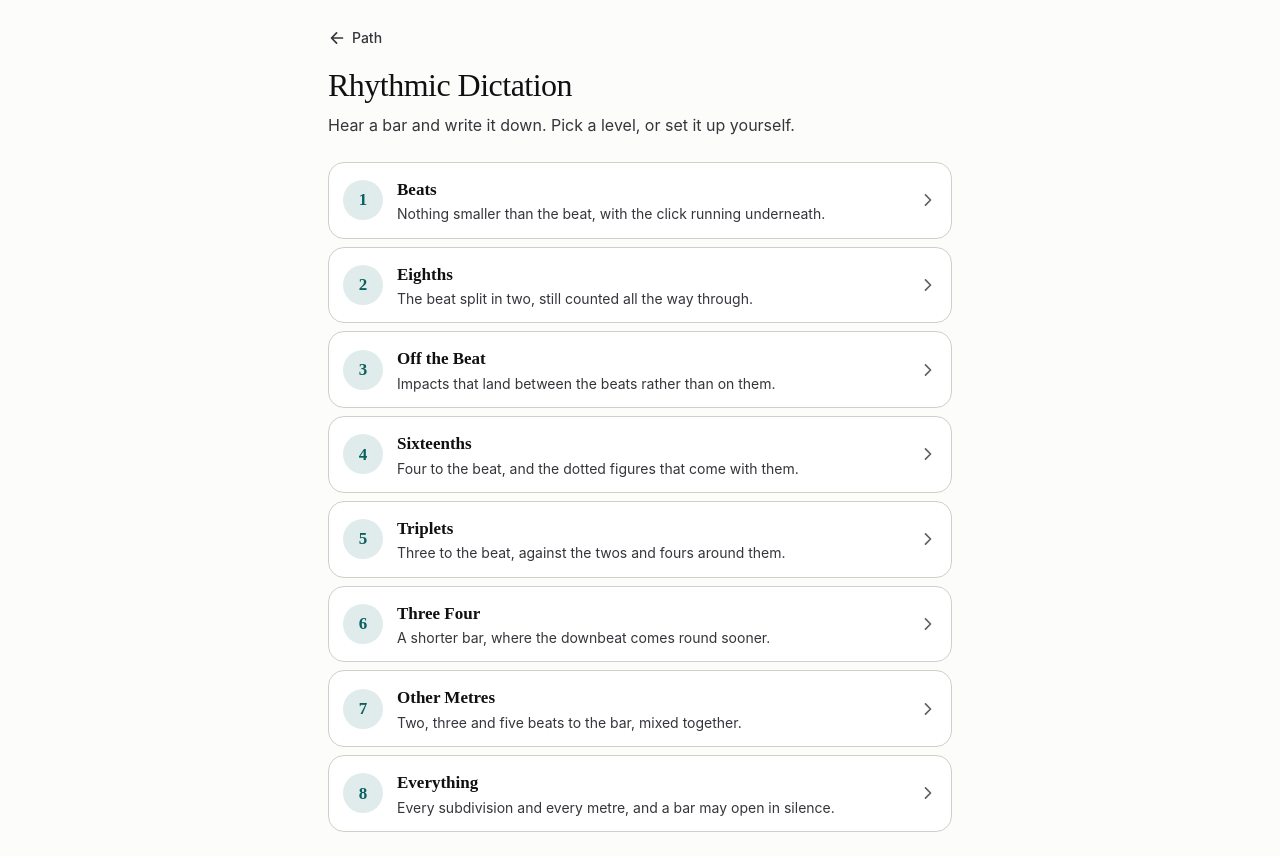
Test: Rhythmic Dictation › starts a round from a level, in the same tap
What coordinates should you click on to do the following:
click the text "Beats"
I would click on:
 (417, 189)
Its box is [397,180,437,199].
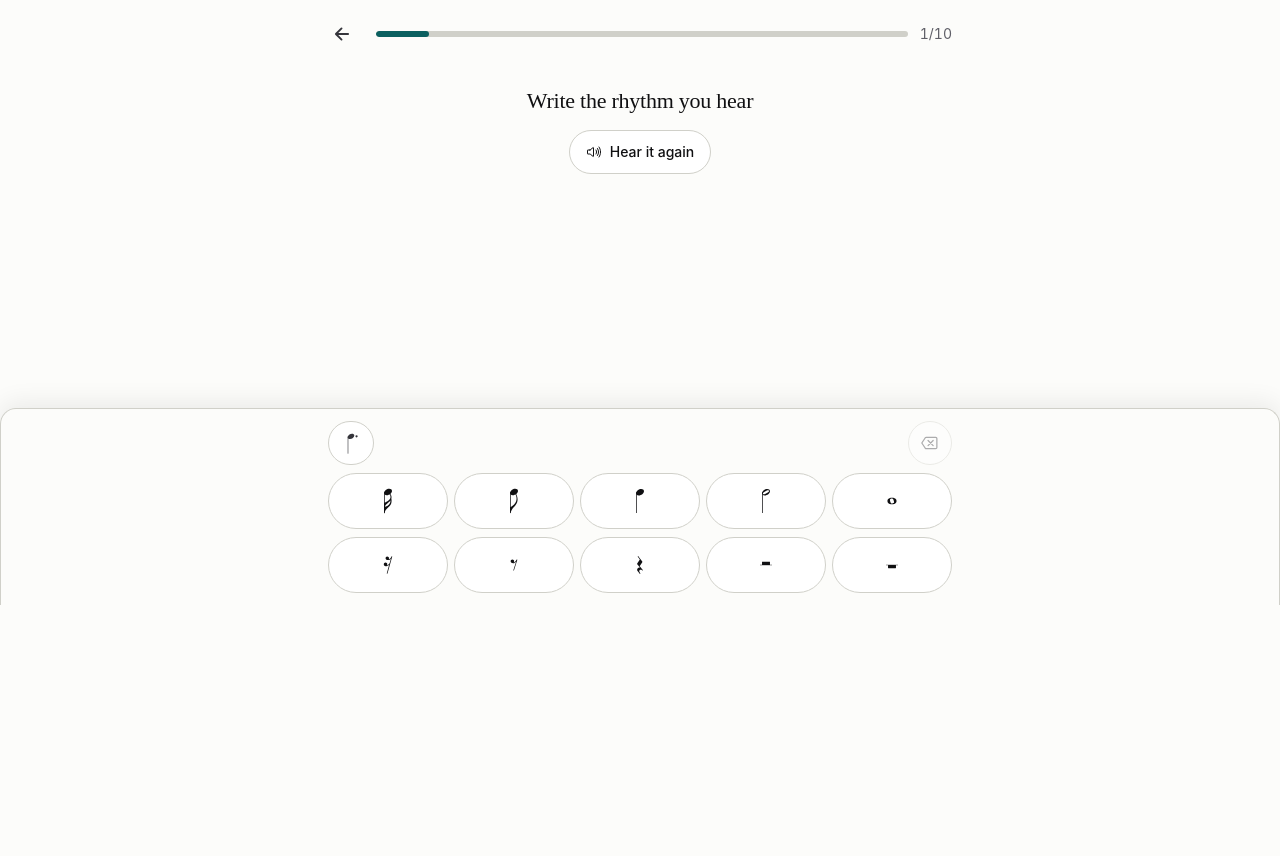
Expected: the heading "Write the rhythm you hear" is shown, [527,88,753,114]
